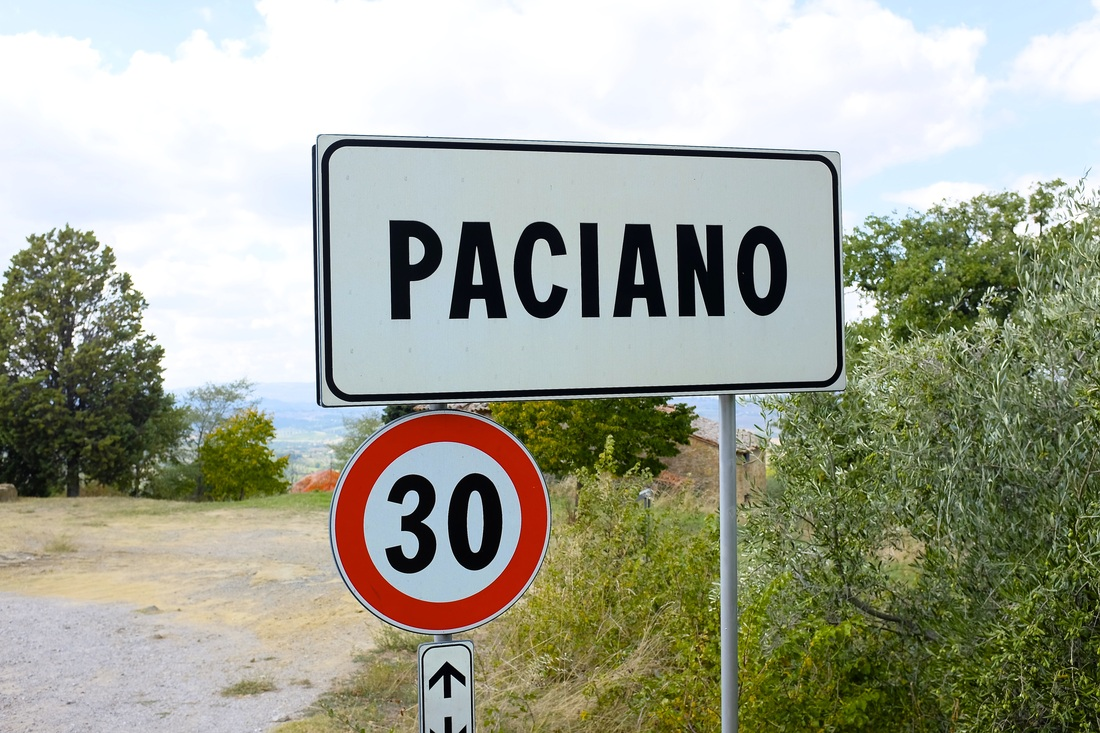Speed_limit_30km: (323, 411, 555, 630)
